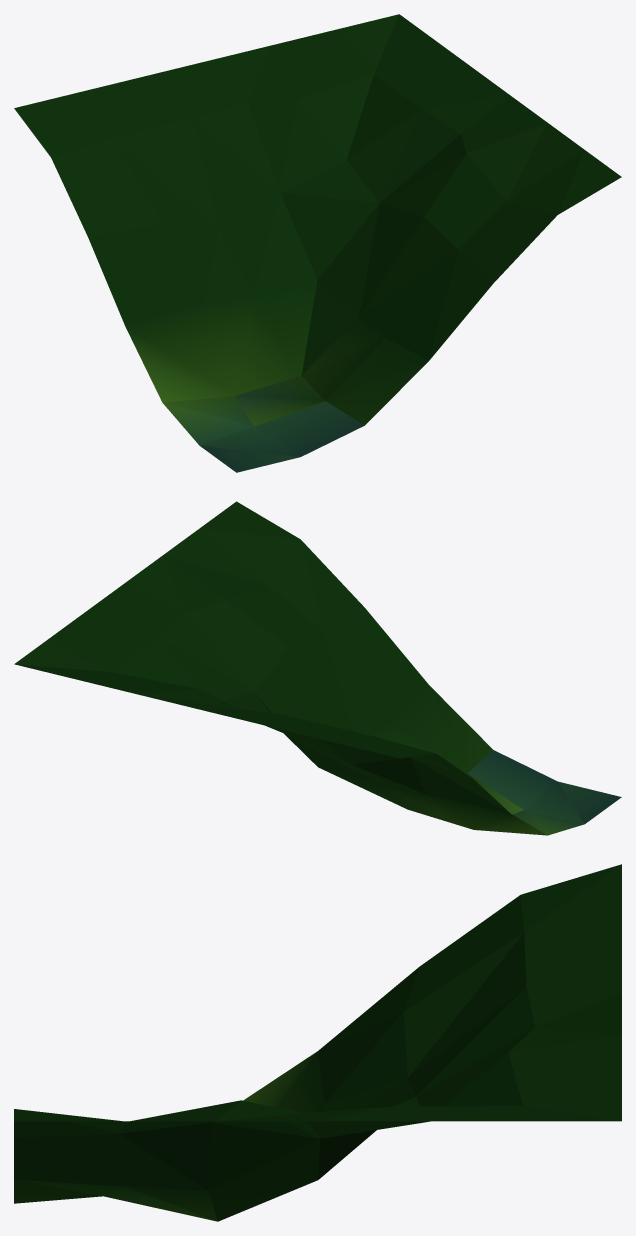
The model's file is ShoreIB270.fbx.
The picture shows the model from 3 angles, top to bottom: view 1: azimuth 30°, elevation 25°; view 2: azimuth 150°, elevation 25°; view 3: azimuth 270°, elevation 25°; orthographic projection. The views are drawn at different scales.
Parts seen in each view (by area): view 1: Shore_Block.009; view 2: Shore_Block.009; view 3: Shore_Block.009.
Boxes of the visible parts, x1,y1,x2,y2 form: Shore_Block.009: [14, 14, 621, 472]; Shore_Block.009: [14, 501, 621, 835]; Shore_Block.009: [14, 864, 621, 1221].
Size of the model in its own units: 200 by 100 by 200.
